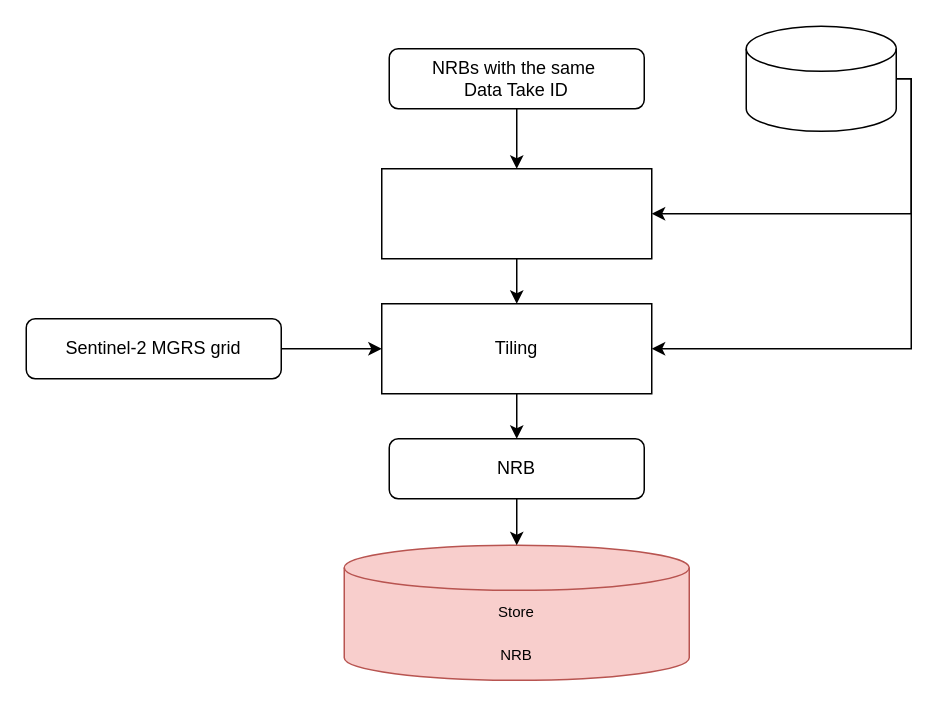
Image size: 950x707. Some labels were removed from this diagram. The shapes that lost their labels are listed below. From the top down, each one's box as (x1, y1, x2, y2) in pixels, then its label:
(745, 25, 896, 131): Parameters configuration file
(380, 167, 652, 259): Burst merge
